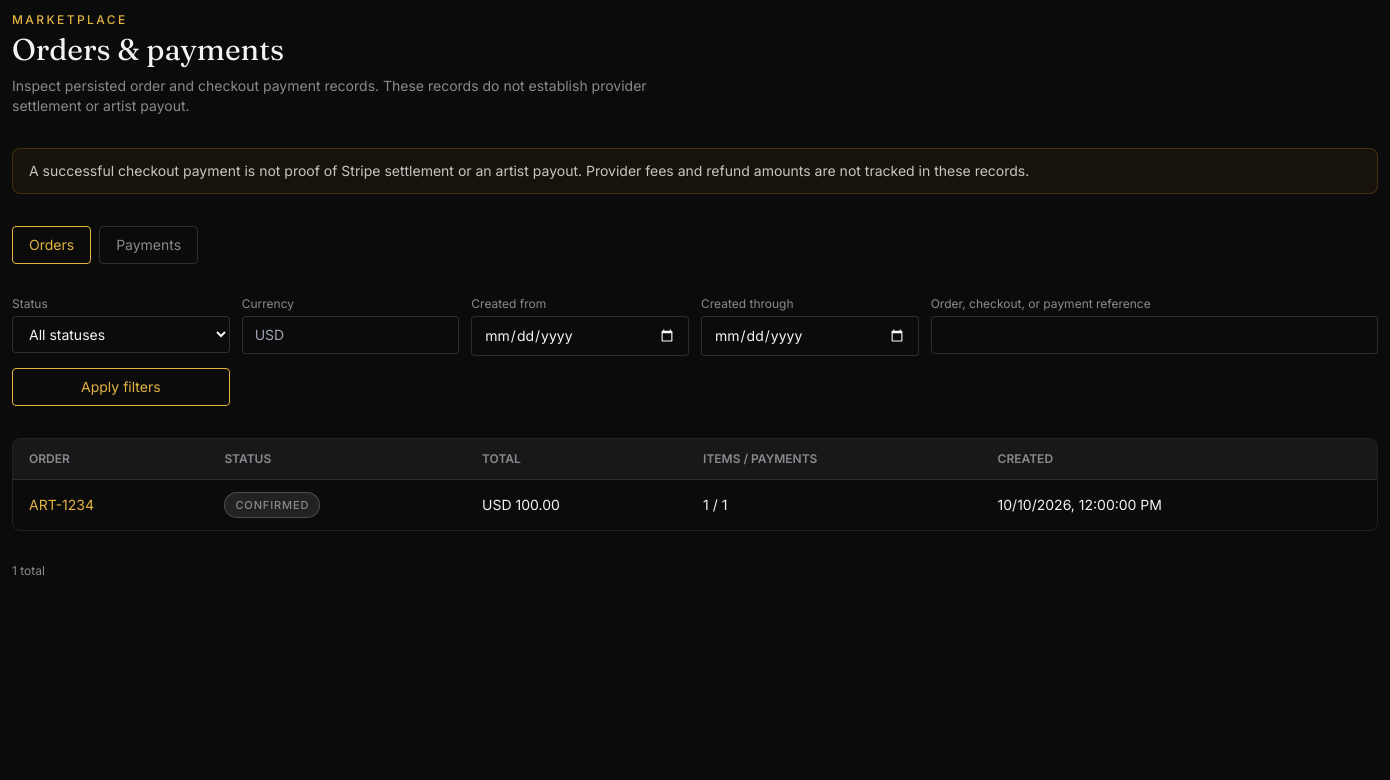
Scenario: admin orders and payments page › shows a failed detail lookup without losing the order list
Click the button "ART-1234".
click(62, 505)  # box [29, 495, 94, 515]
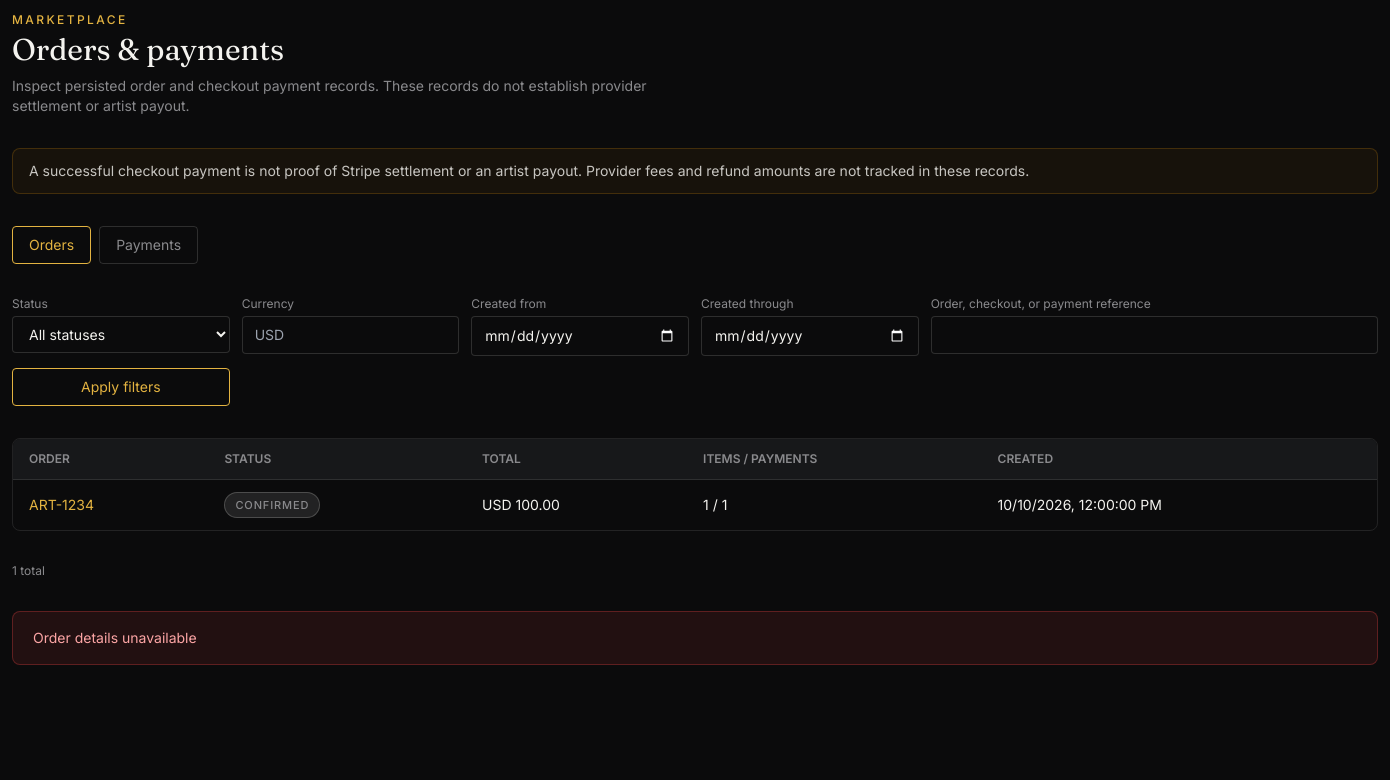
Check: the text "Order details unavailable" is shown, box [33, 629, 197, 646]
